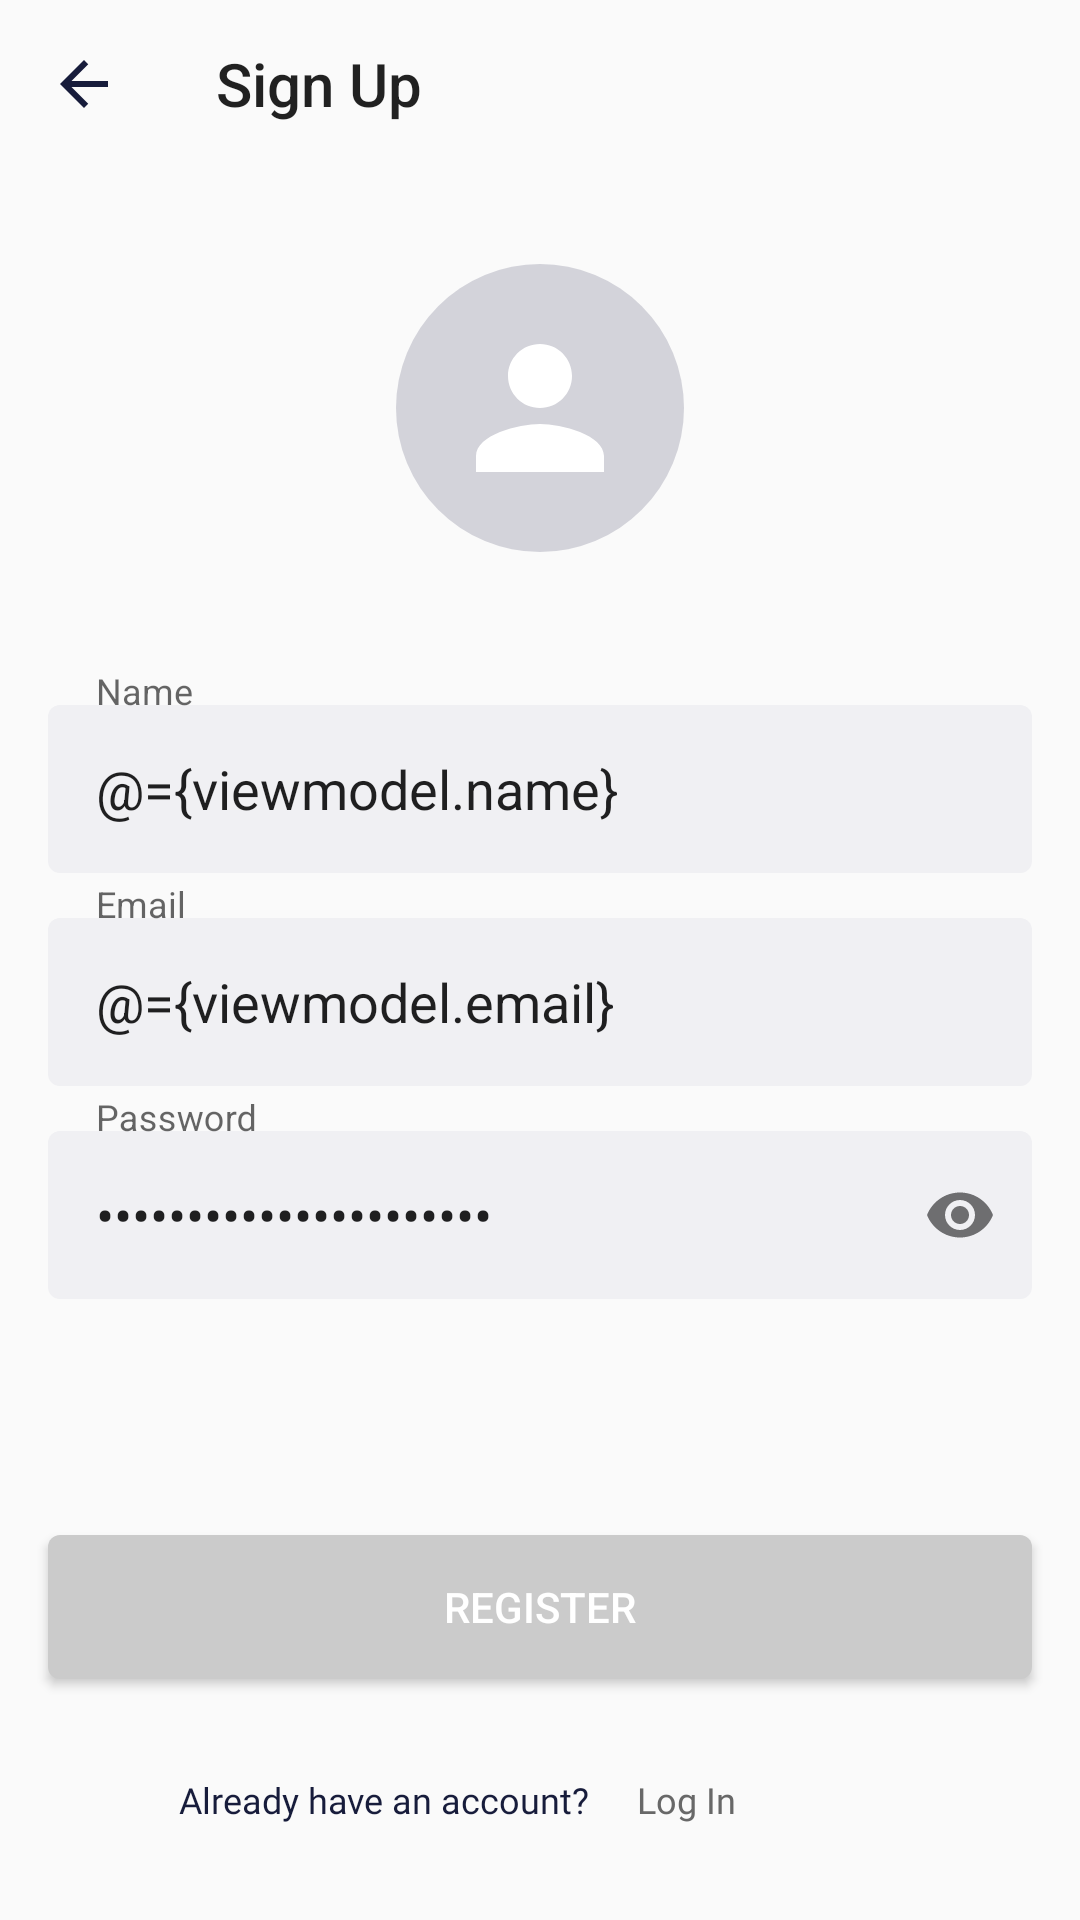

Icons on this 1080x1920 Android screen, each with the point to tap as [x,y]:
person: [540,408]
